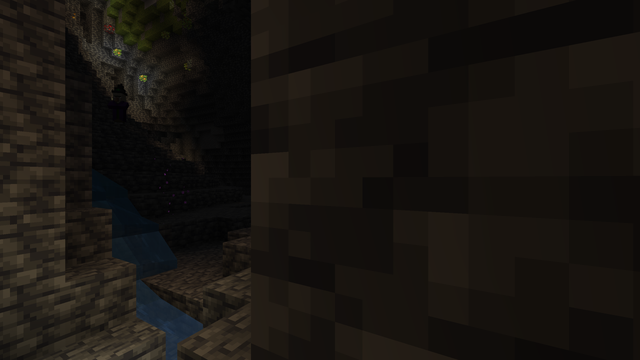sorcieres: (111, 90, 127, 125)
